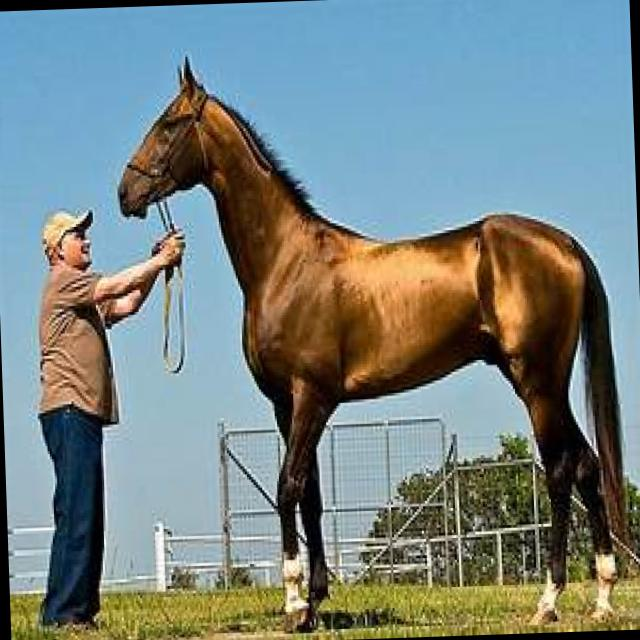animal: (110, 45, 618, 636)
